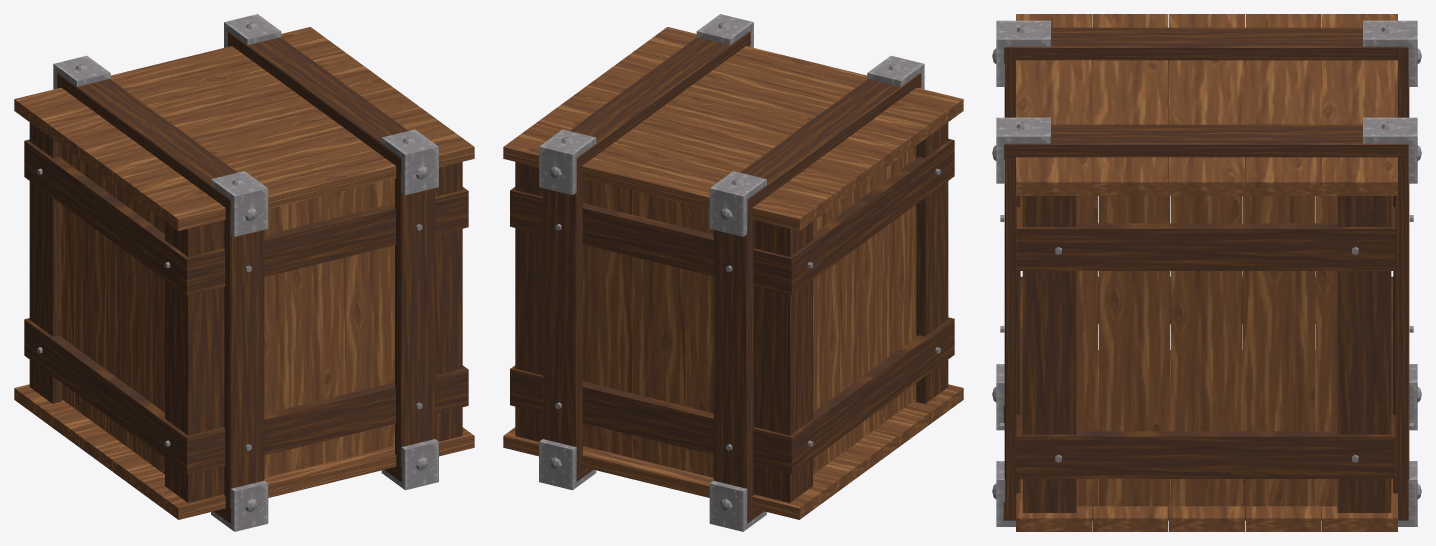
The model's file is Lab_Crate.glb.
The picture shows the model from 3 angles, left to right: view 1: azimuth 30°, elevation 25°; view 2: azimuth 150°, elevation 25°; view 3: azimuth 270°, elevation 25°; orthographic projection. The views are drawn at different scales.
Parts seen in each view (by area): view 1: Lab_Crate; view 2: Lab_Crate; view 3: Lab_Crate.
Boxes of the visible parts, bbox=[...] form: Lab_Crate: bbox=[14, 14, 474, 531]; Lab_Crate: bbox=[503, 14, 963, 531]; Lab_Crate: bbox=[992, 14, 1421, 531].
Size of the model in its own units: 0.8423 by 0.9325 by 0.9088.
Materials: 2 (2 with a texture image).
